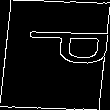P_E: (4, 35, 106, 75)
